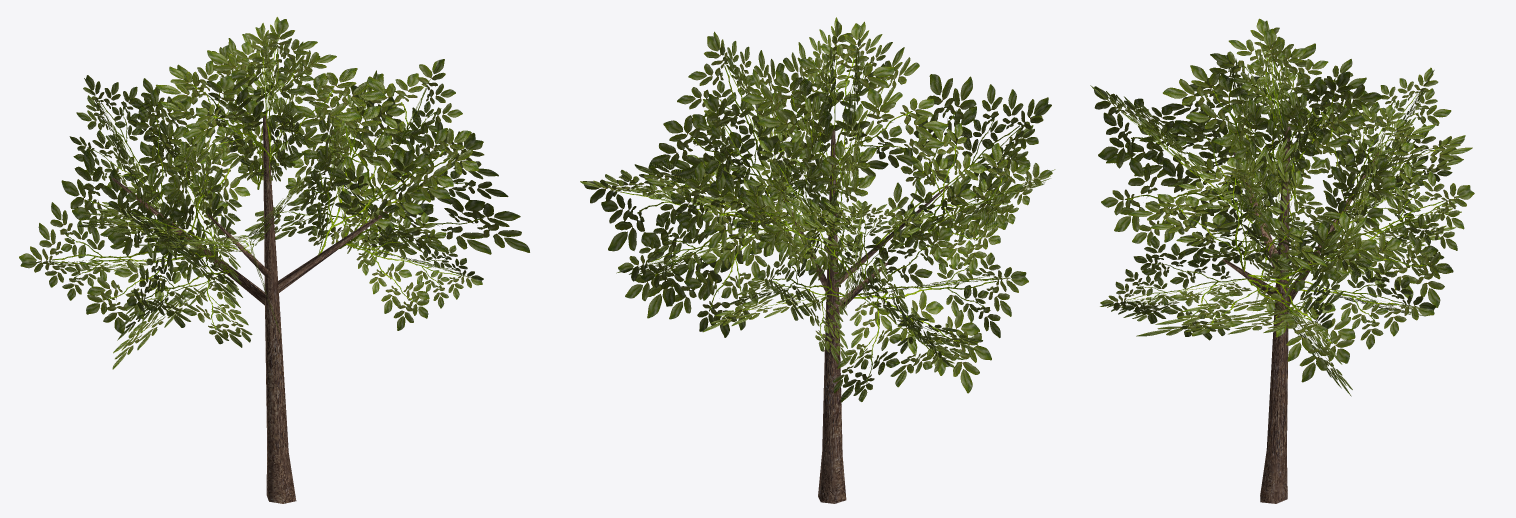
The model's file is Tree-B-05.fbx.
3 renders of one model, left to right at view 1: azimuth 30°, elevation 25°; view 2: azimuth 150°, elevation 25°; view 3: azimuth 270°, elevation 25°, orthographic. The views are drawn at different scales.
Parts seen in each view (by area): view 1: Tree-B-05; view 2: Tree-B-05; view 3: Tree-B-05.
Part boxes in pixels (left/top/right/bottom): Tree-B-05: left=19, top=17, right=529, bottom=503; Tree-B-05: left=580, top=17, right=1055, bottom=503; Tree-B-05: left=1090, top=18, right=1474, bottom=503.
Bounding box in the file's own units: 732 × 786 × 627.
